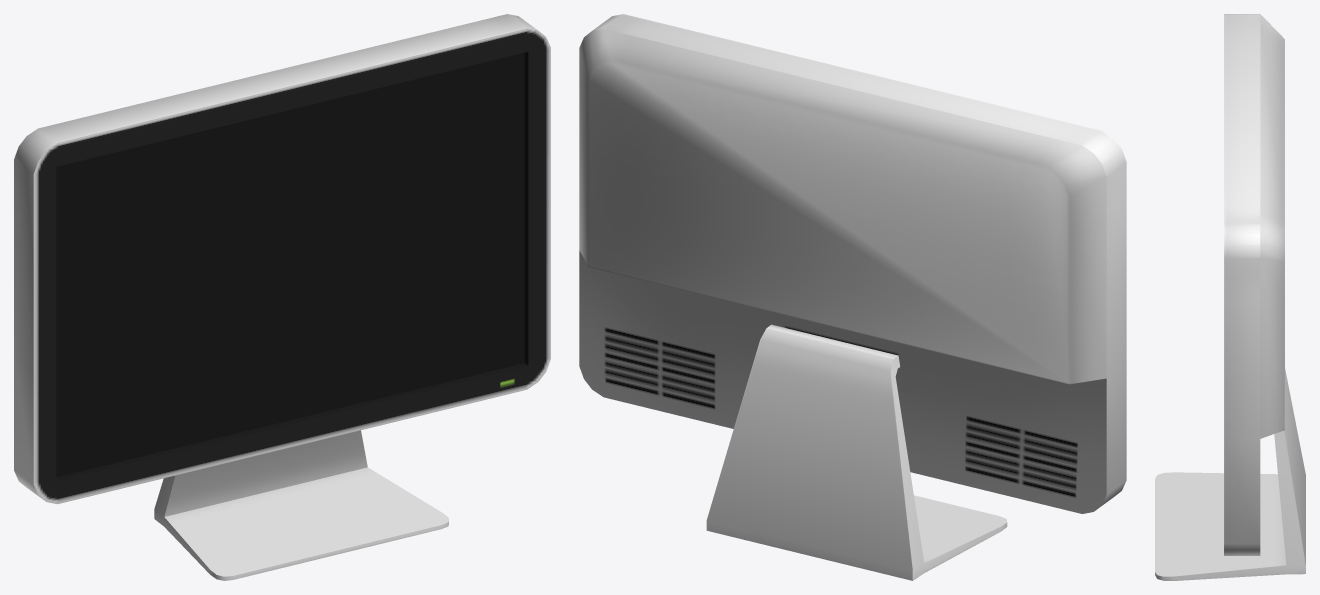
File: monitor.FBX
3 views of the same model, side by side, from view 1: azimuth 30°, elevation 25°; view 2: azimuth 150°, elevation 25°; view 3: azimuth 270°, elevation 25° (orthographic). The views are drawn at different scales.
Visible parts, largest first — view 1: monitor; view 2: monitor; view 3: monitor.
Boxes of the visible parts, x1=… form: monitor: x1=14, y1=14, x2=550, y2=580; monitor: x1=579, y1=14, x2=1126, y2=580; monitor: x1=1155, y1=14, x2=1305, y2=580.
Size of the model in its own units: 37.5 by 30.71 by 10.33.
